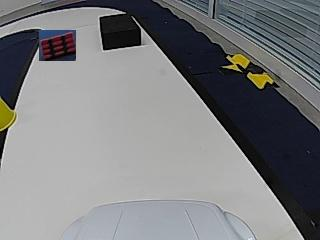block: (99, 13, 141, 49)
cone: (0, 98, 17, 131)
